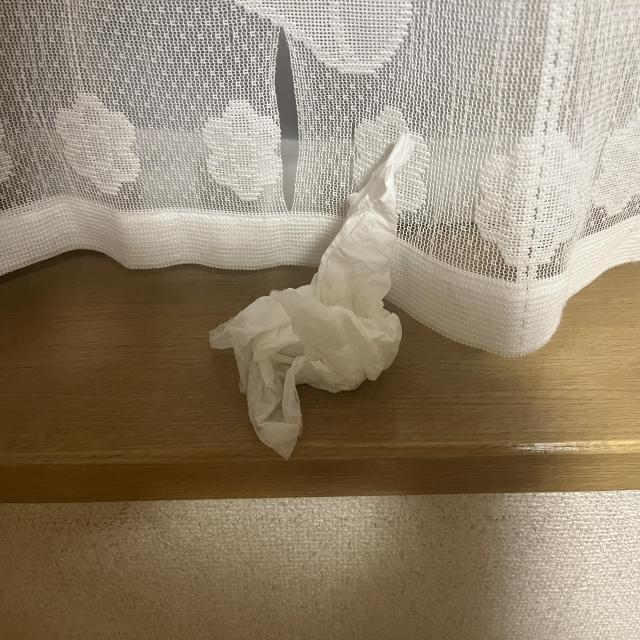Paper: (194, 125, 432, 474)
